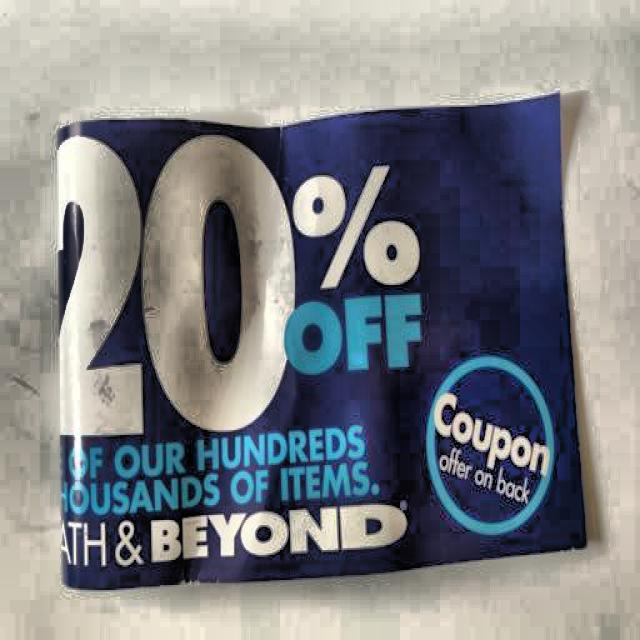paper: (41, 110, 614, 606)
